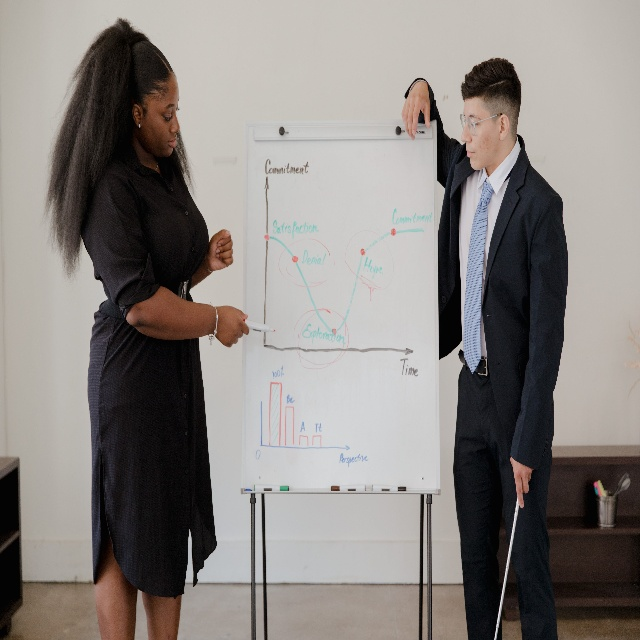Gafas: (460, 113, 502, 135)
Sin_guantes: (401, 82, 430, 140), (215, 305, 250, 348), (510, 456, 534, 509), (207, 228, 234, 271)
